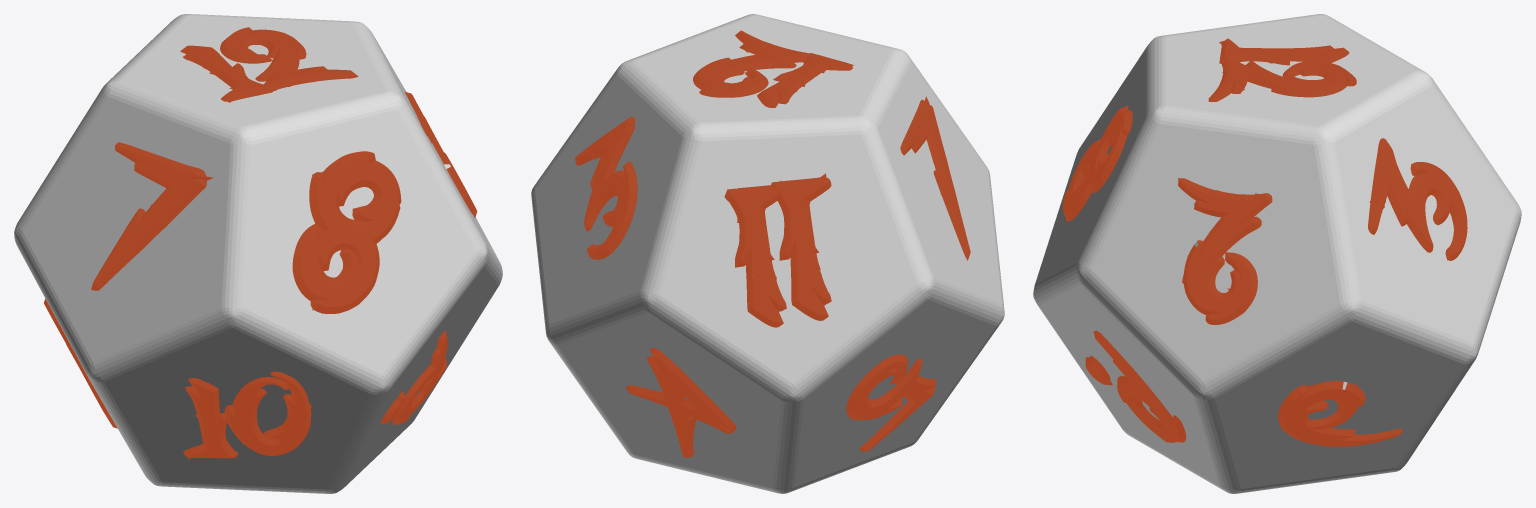
3 renders of one model, left to right at view 1: azimuth 30°, elevation 25°; view 2: azimuth 150°, elevation 25°; view 3: azimuth 270°, elevation 25°, orthographic. The views are drawn at different scales.
Visible parts, largest first — view 1: d12; view 2: d12; view 3: d12.
Boxes of the visible parts, <box> form: d12: <box>14,14,502,493</box>; d12: <box>531,14,1004,493</box>; d12: <box>1033,14,1521,493</box>.
Size of the model in its own units: 1.67 by 1.49 by 1.75.
